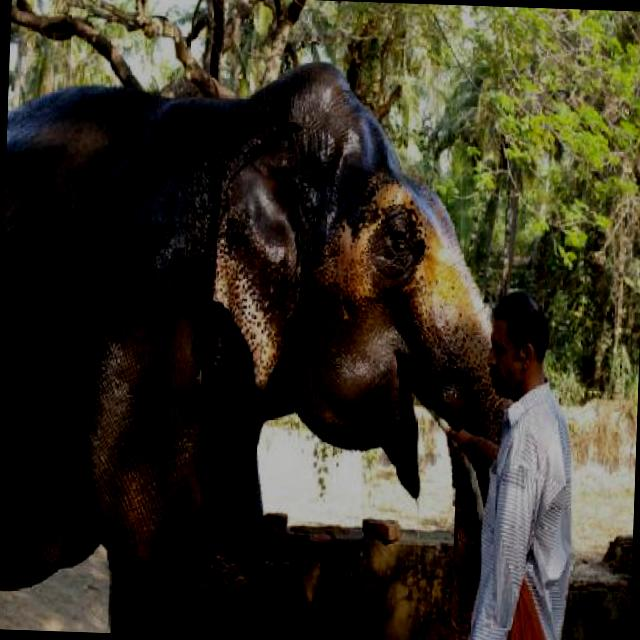Person: (438, 291, 584, 640)
